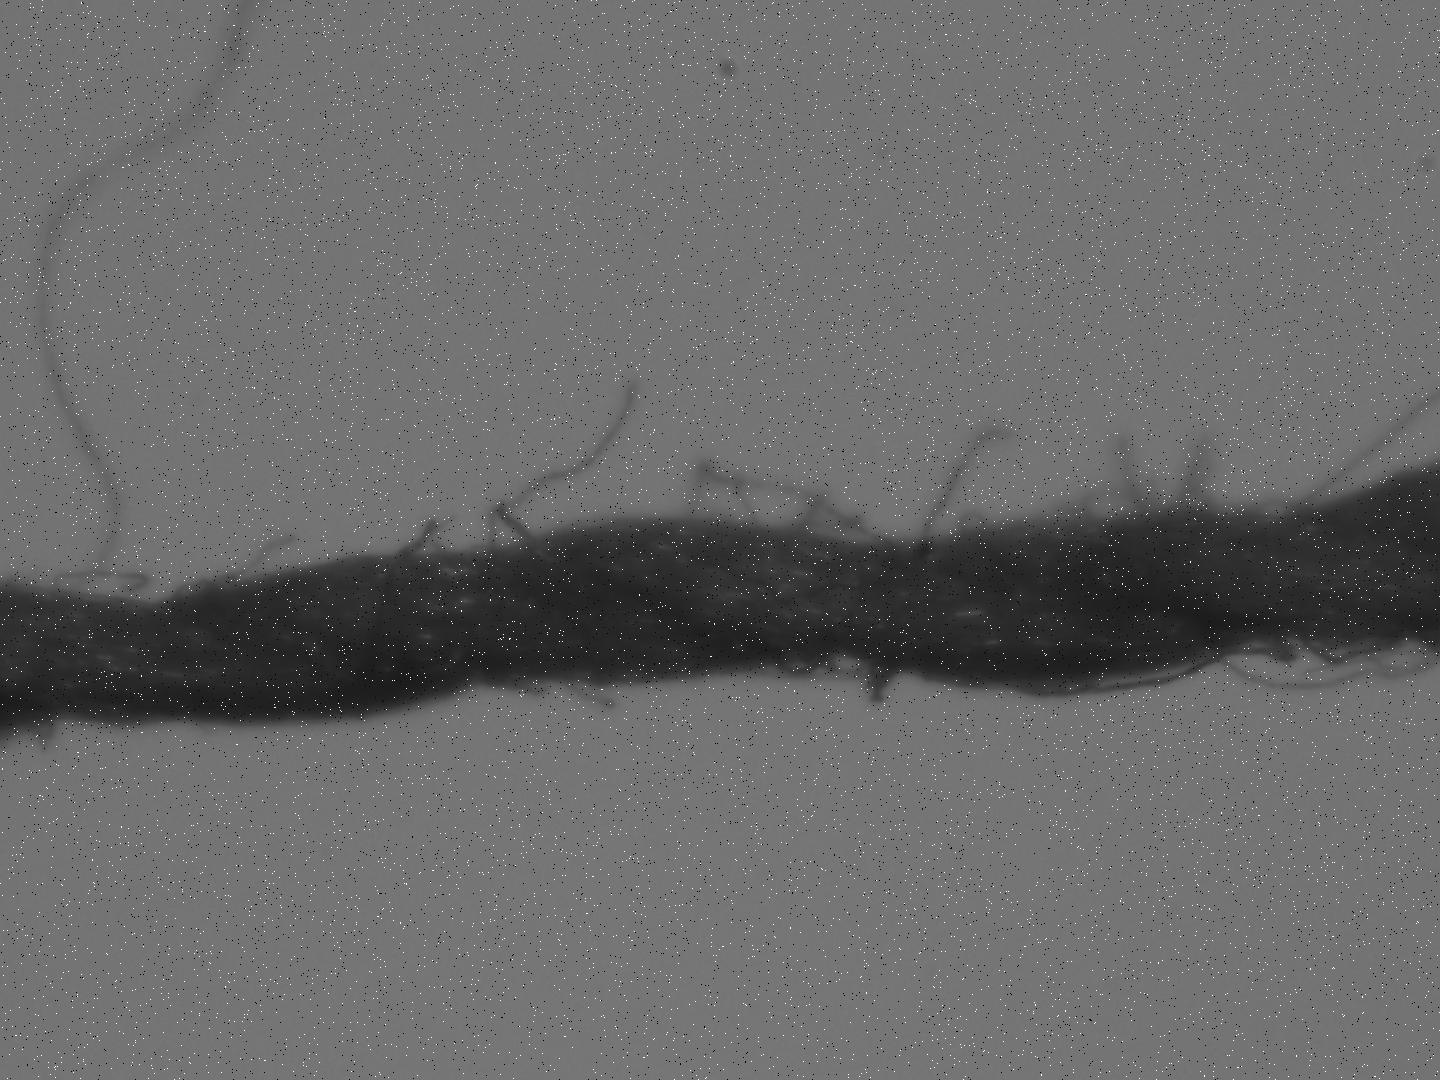loop_fiber: (1023, 633, 1433, 702), (675, 454, 899, 554), (1172, 428, 1308, 526), (1008, 447, 1162, 532), (766, 651, 900, 708), (388, 513, 461, 562), (49, 565, 155, 596), (20, 718, 58, 758), (963, 512, 992, 540)
protruding_fiber: (31, 1, 247, 598), (485, 379, 637, 555), (1280, 380, 1437, 520), (915, 425, 1028, 549), (217, 534, 298, 587), (493, 506, 543, 548), (558, 686, 625, 708)
